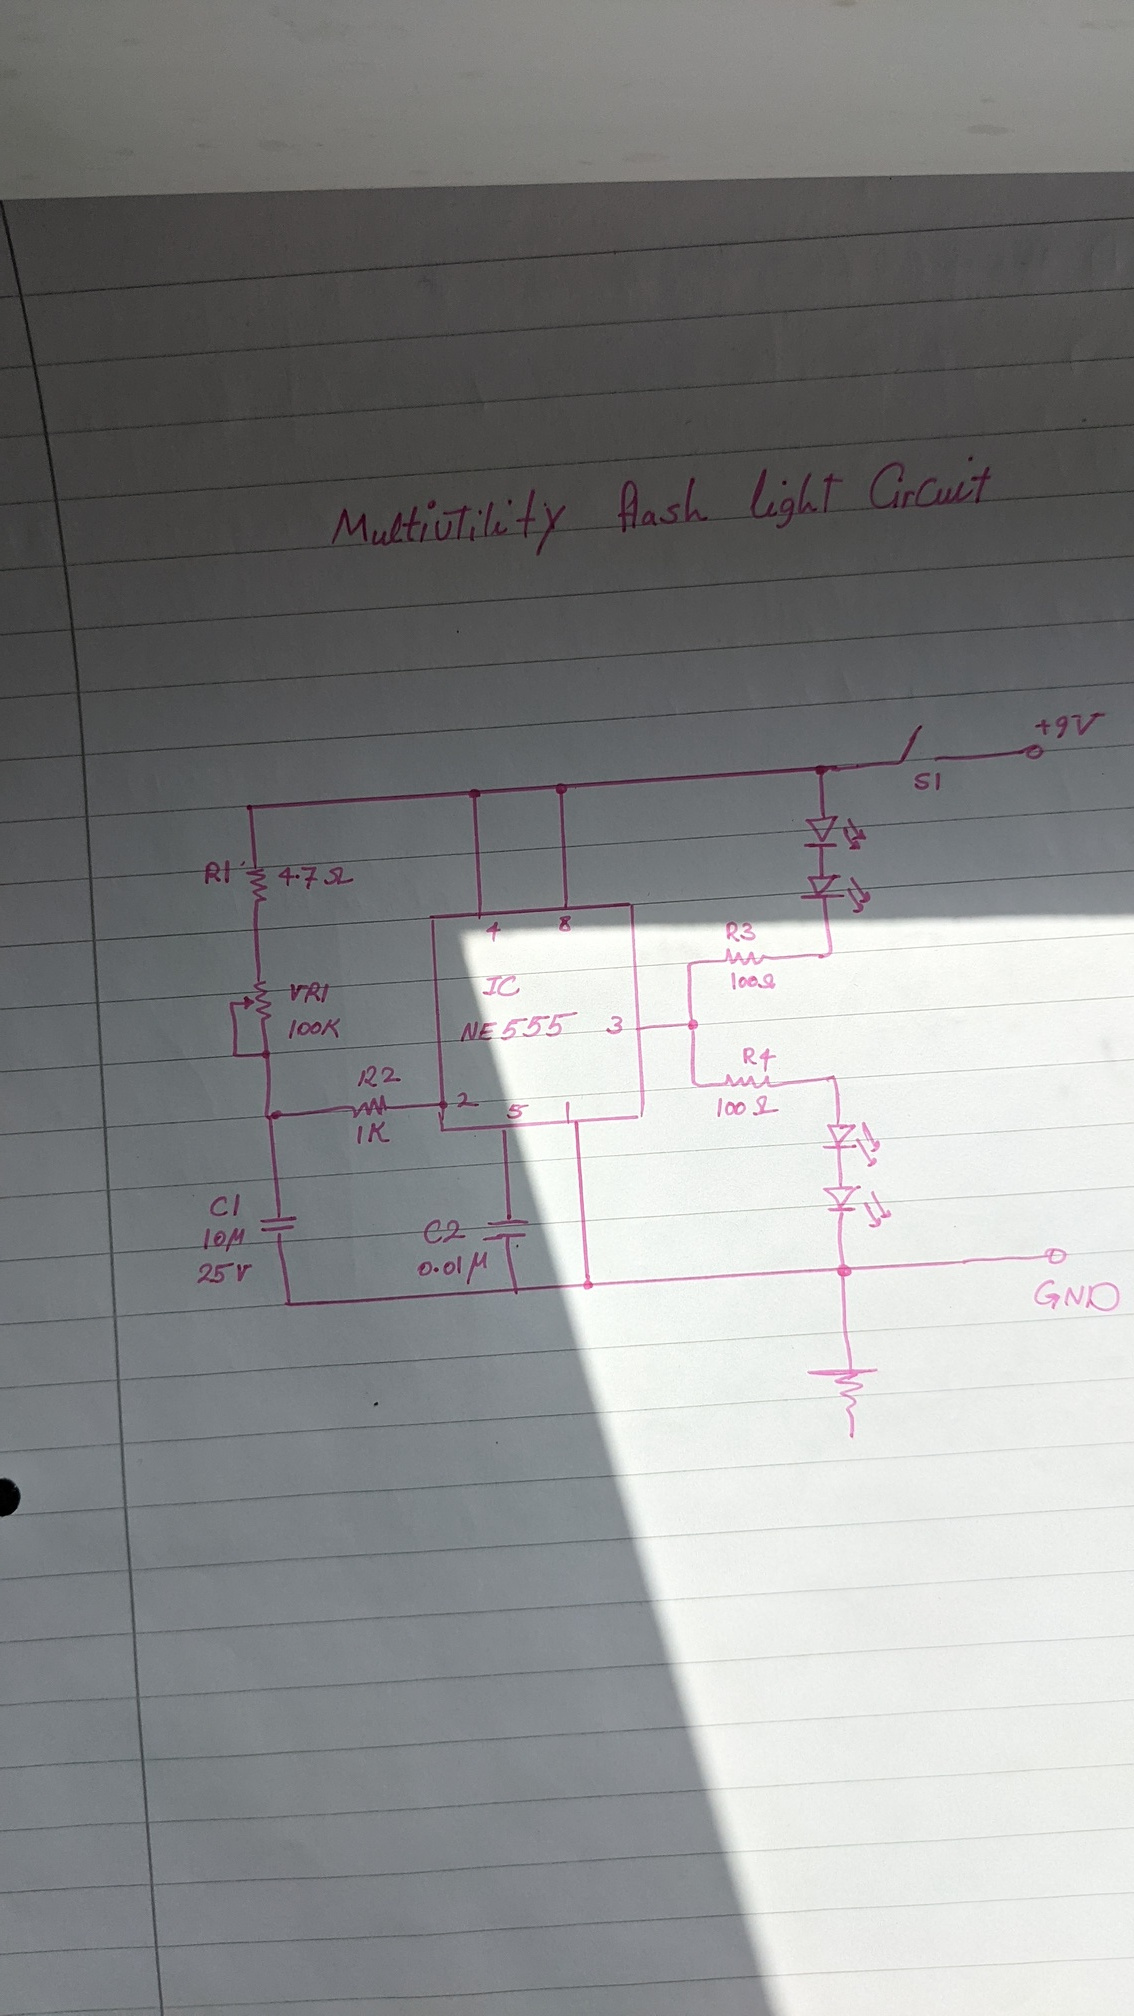capacitor.unpolarized: (480, 1214, 533, 1246), (258, 1212, 300, 1236)
diode.light_emitting: (820, 1182, 893, 1230), (820, 1119, 883, 1170), (798, 872, 872, 914), (800, 813, 868, 854)
gnd: (804, 1365, 881, 1440)
integrated_cricuit.ne555: (426, 899, 649, 1135)
junction: (834, 1261, 854, 1279), (685, 1015, 703, 1034), (811, 762, 832, 778), (262, 1108, 284, 1123), (552, 781, 569, 798), (467, 786, 483, 800), (582, 1277, 595, 1292), (821, 946, 836, 960), (259, 1048, 274, 1061), (687, 1079, 702, 1091), (510, 1284, 522, 1297), (244, 800, 258, 813), (683, 960, 696, 972), (827, 1072, 840, 1083), (282, 1297, 295, 1308), (228, 1050, 241, 1061), (226, 1000, 237, 1009)
resistor: (348, 1092, 390, 1120), (723, 946, 773, 968), (721, 1072, 778, 1091), (244, 865, 270, 906)
resistor.adjustable: (242, 978, 274, 1025)
switch: (899, 721, 942, 767)
terminal: (1043, 1243, 1070, 1266), (1020, 742, 1045, 762)
text: (327, 453, 994, 558), (458, 1009, 579, 1043), (1032, 1277, 1122, 1315), (415, 1249, 490, 1286), (1033, 709, 1109, 739), (276, 864, 357, 892), (714, 1094, 781, 1119), (195, 1260, 253, 1288), (287, 1016, 342, 1041), (202, 1225, 246, 1254), (422, 1217, 468, 1245), (356, 1063, 403, 1088), (741, 1045, 778, 1074), (480, 973, 521, 1000), (728, 971, 775, 993), (288, 980, 330, 1004), (356, 1119, 390, 1146), (724, 918, 757, 944), (208, 1192, 241, 1218), (204, 858, 230, 888), (912, 768, 943, 793), (454, 1088, 482, 1110), (504, 1101, 532, 1120), (485, 919, 503, 944), (605, 1014, 624, 1036), (557, 912, 575, 935), (564, 1099, 573, 1126)
